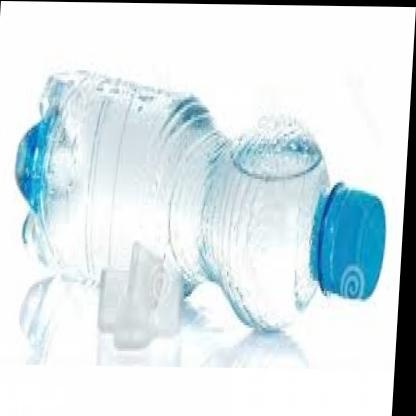trash: (15, 71, 384, 348)
